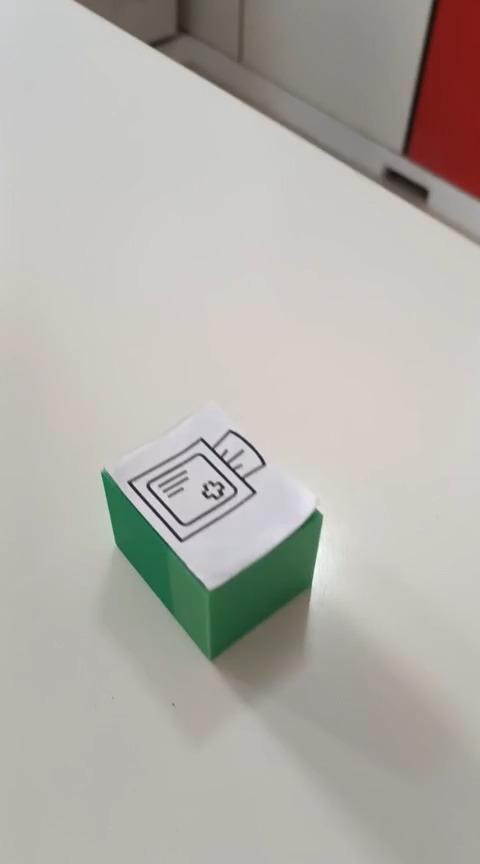Gauze: (99, 400, 323, 661)
